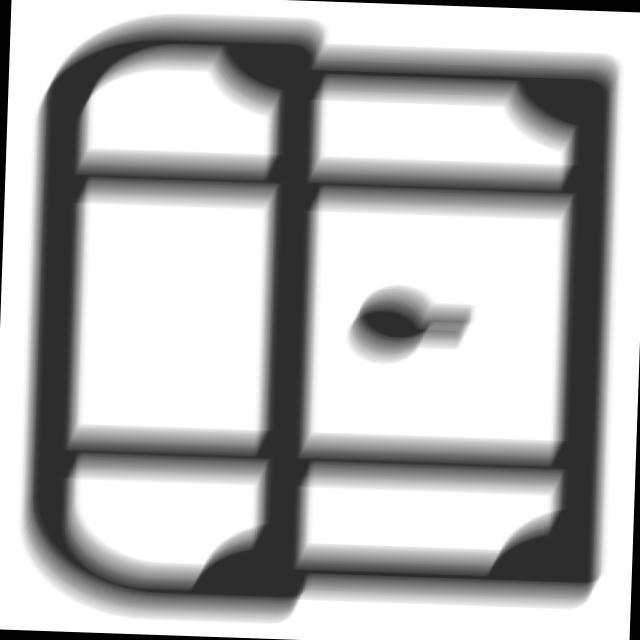treasure_box: (9, 2, 636, 637)
